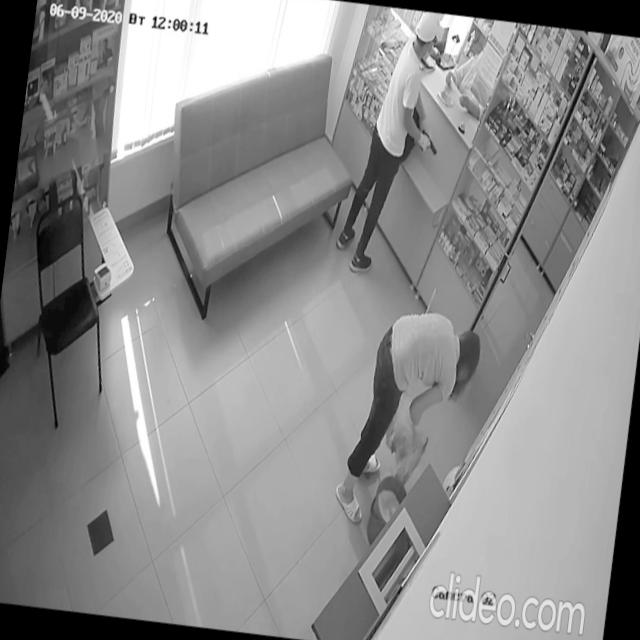gun: (418, 128, 439, 156)
person: (333, 304, 486, 538)
person with a gun: (332, 5, 453, 281)
